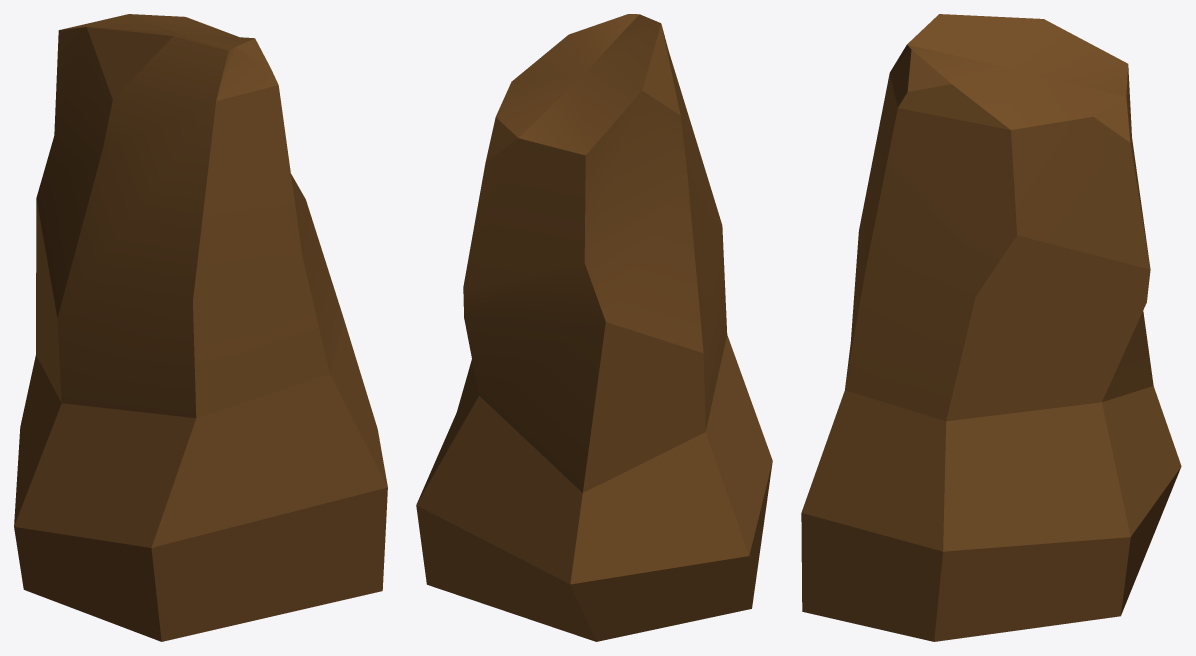
The model's file is Rock1.FBX.
3 renders of one model, left to right at view 1: azimuth 30°, elevation 25°; view 2: azimuth 150°, elevation 25°; view 3: azimuth 270°, elevation 25°, orthographic.
Parts seen in each view (by area): view 1: Rock1; view 2: Rock1; view 3: Rock1.
Part boxes in pixels (x1,y1,x2,y2): Rock1: (14, 14, 387, 641); Rock1: (416, 14, 772, 641); Rock1: (801, 14, 1181, 641).
Bounding box in the file's own units: 317 × 519 × 320.
